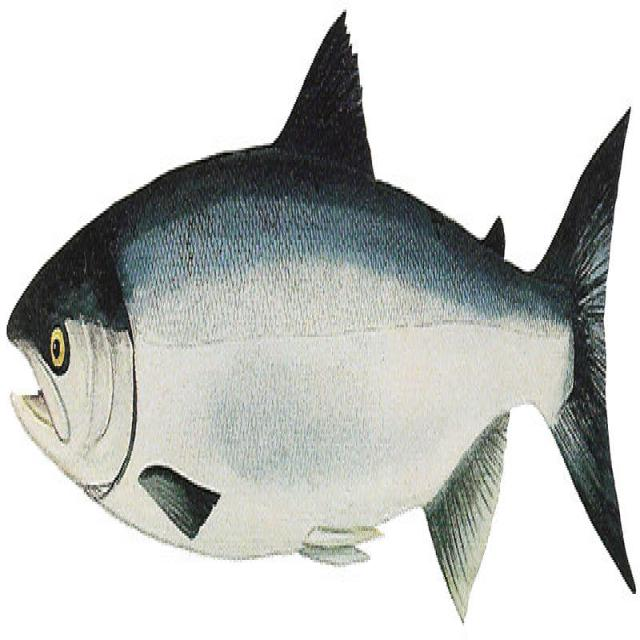salmon: (6, 18, 640, 630)
